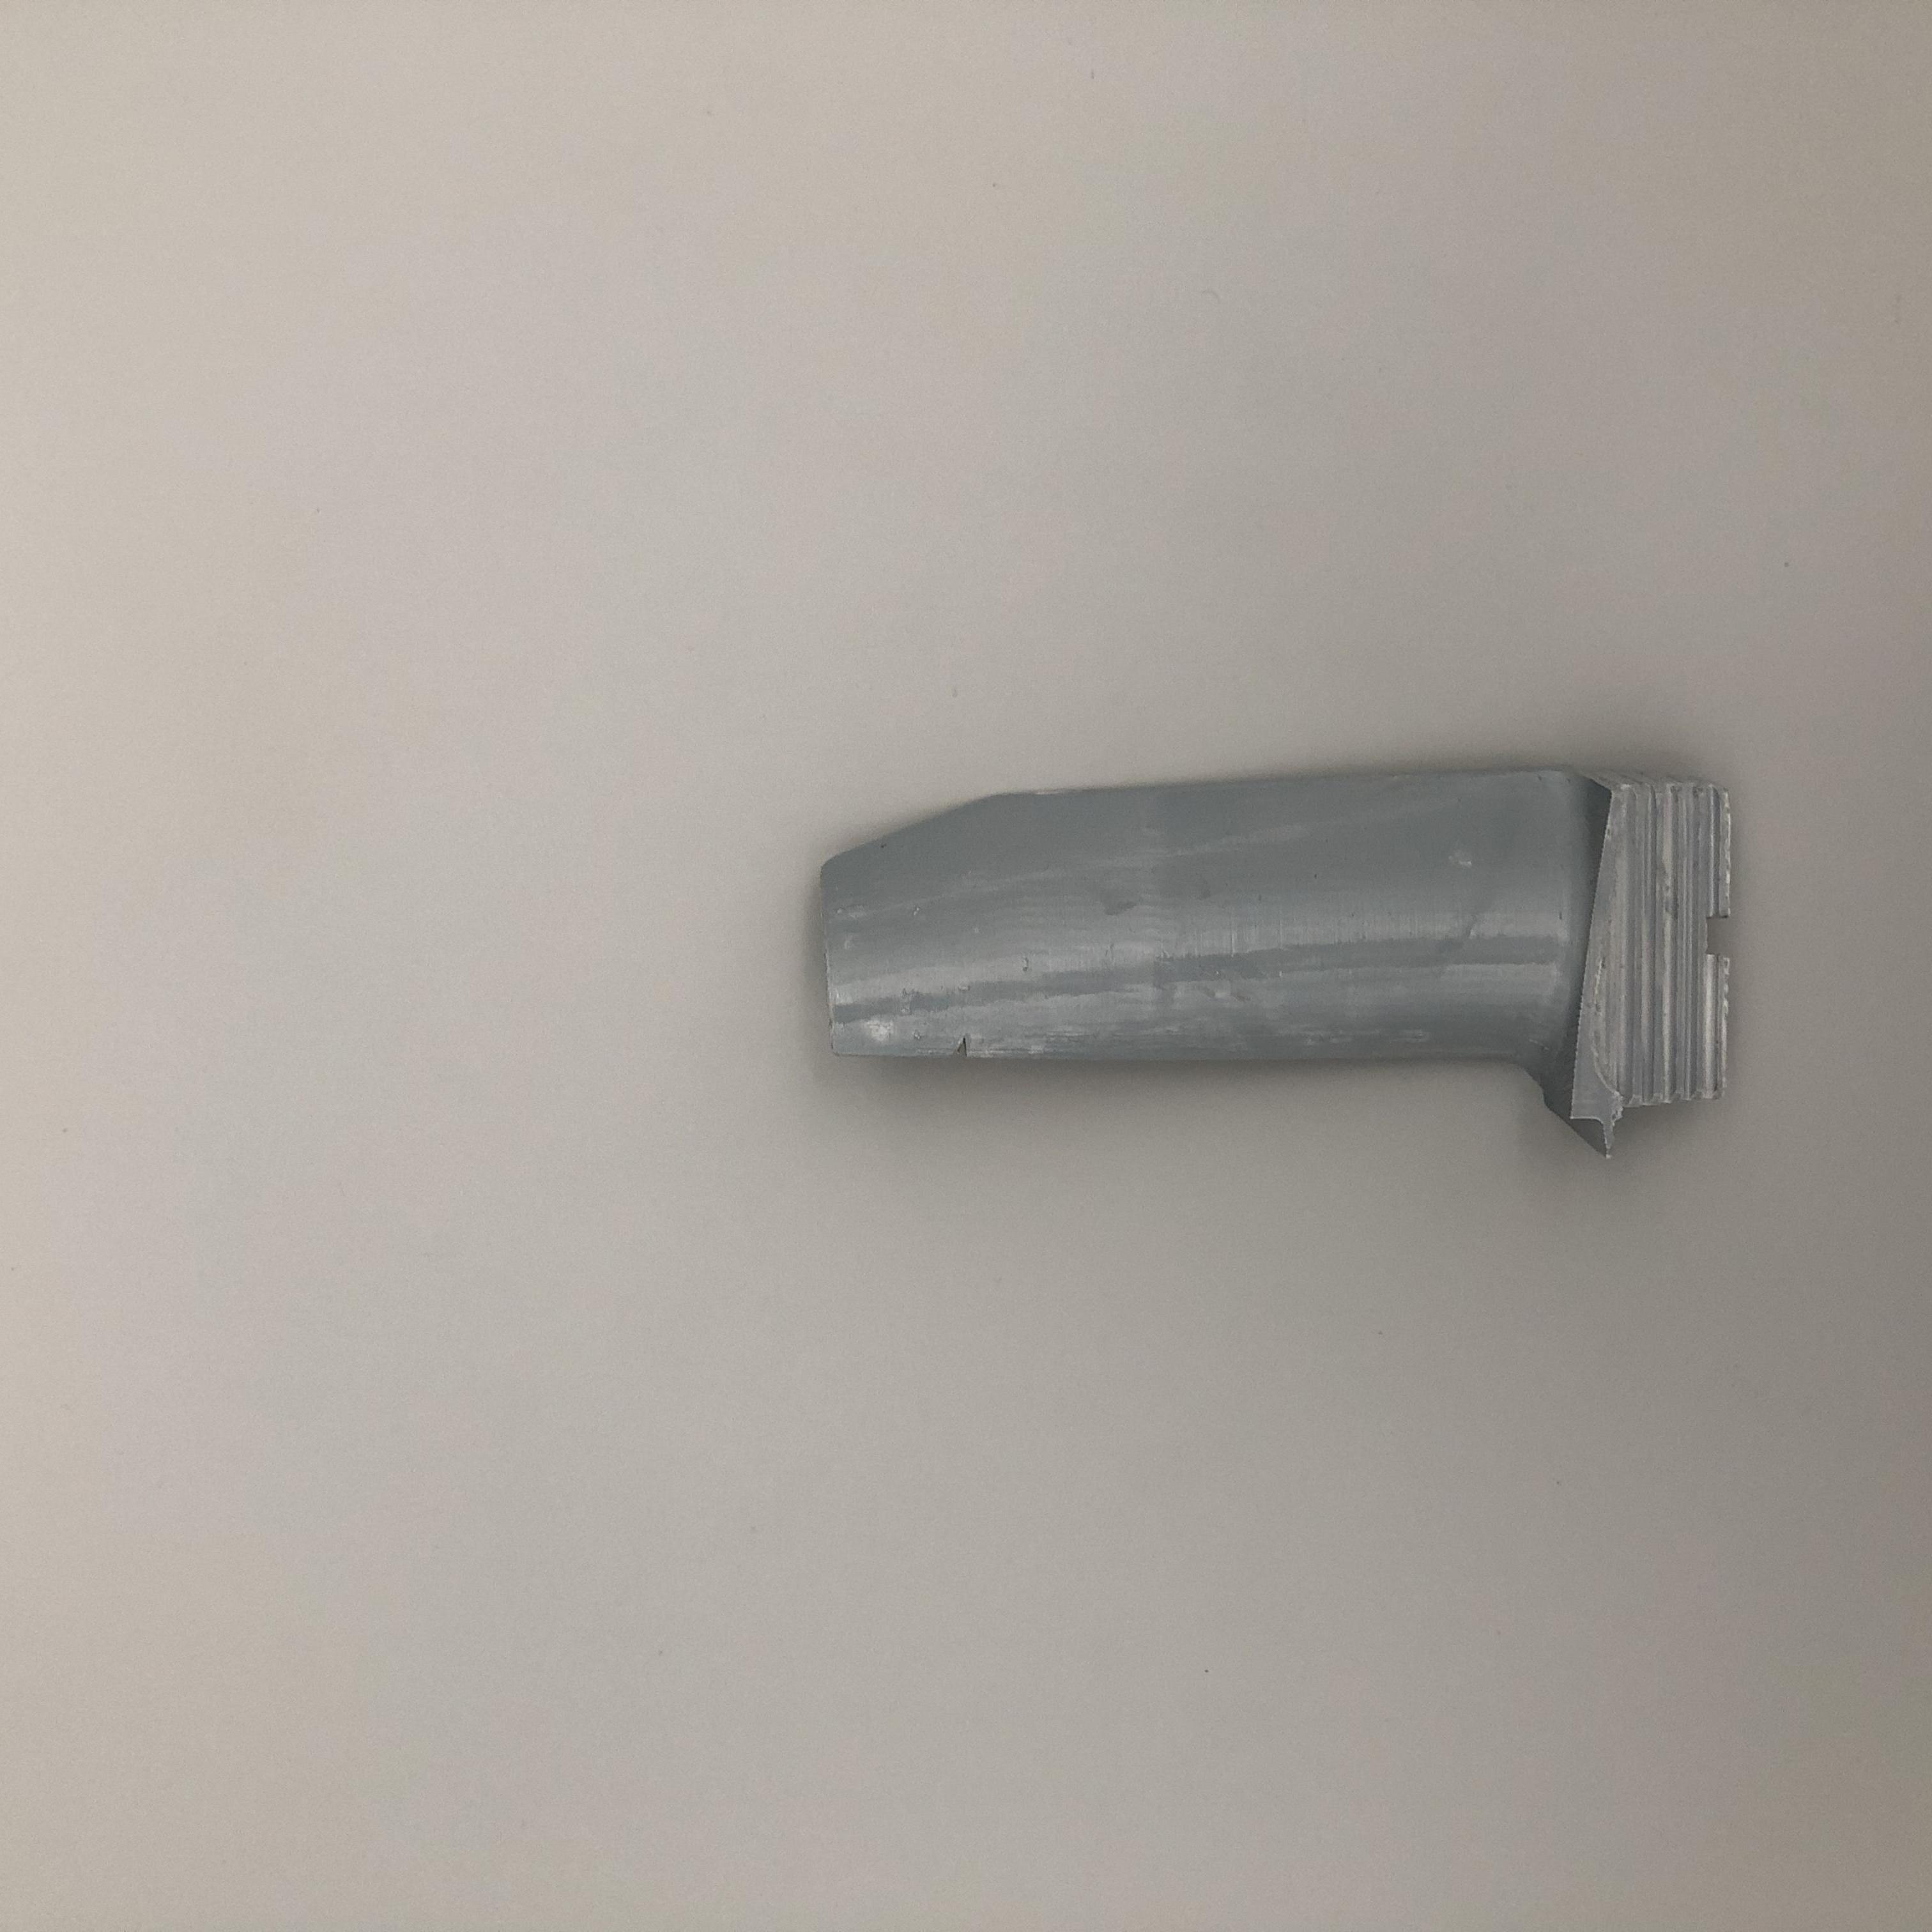groove: (957, 1028, 978, 1060)
